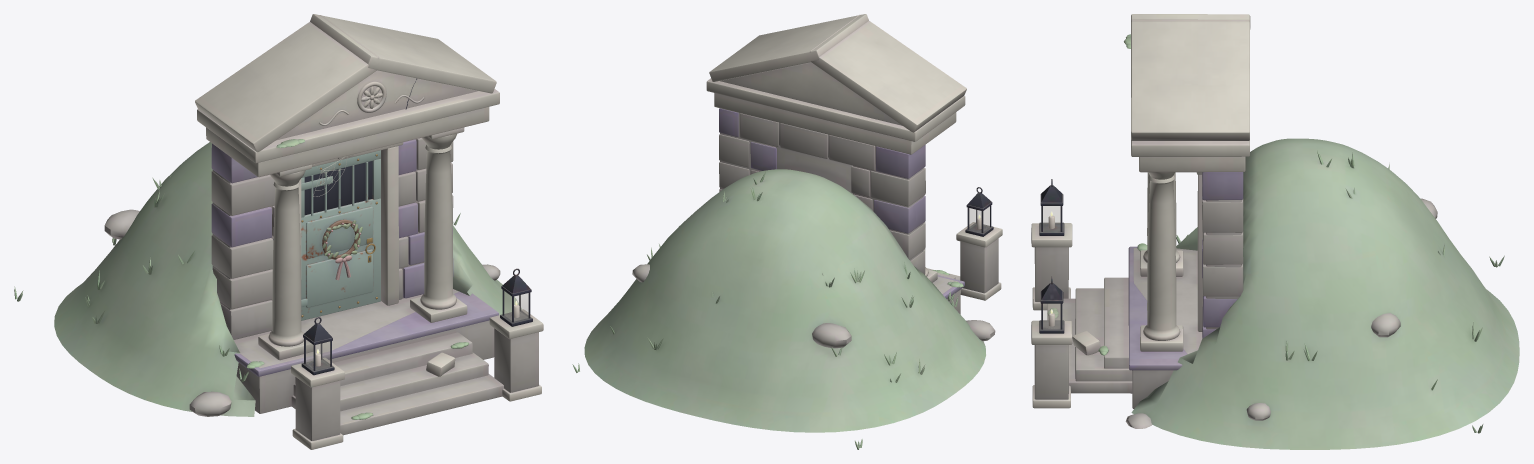
The model's file is tomb.glb.
3 views of the same model, side by side, from view 1: azimuth 30°, elevation 25°; view 2: azimuth 150°, elevation 25°; view 3: azimuth 270°, elevation 25° (orthographic). The views are drawn at different scales.
Visible parts, largest first — view 1: tomb_body, tomb_door, tomb_lantern_glass; view 2: tomb_body; view 3: tomb_body, tomb_lantern_glass.
Boxes of the visible parts, x1=… form: tomb_body: x1=14, y1=14, x2=543, y2=449; tomb_door: x1=301, y1=150, x2=380, y2=320; tomb_lantern_glass: x1=306, y1=291, x2=528, y2=369; tomb_body: x1=572, y1=14, x2=1002, y2=449; tomb_body: x1=1031, y1=14, x2=1519, y2=449; tomb_lantern_glass: x1=1043, y1=206, x2=1060, y2=328.
Bounding box in the file's own units: 4.1 × 3.29 × 4.31.
6 materials, 2 textured.
